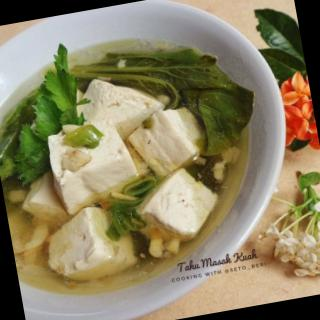Tahu: (31, 105, 151, 225)
